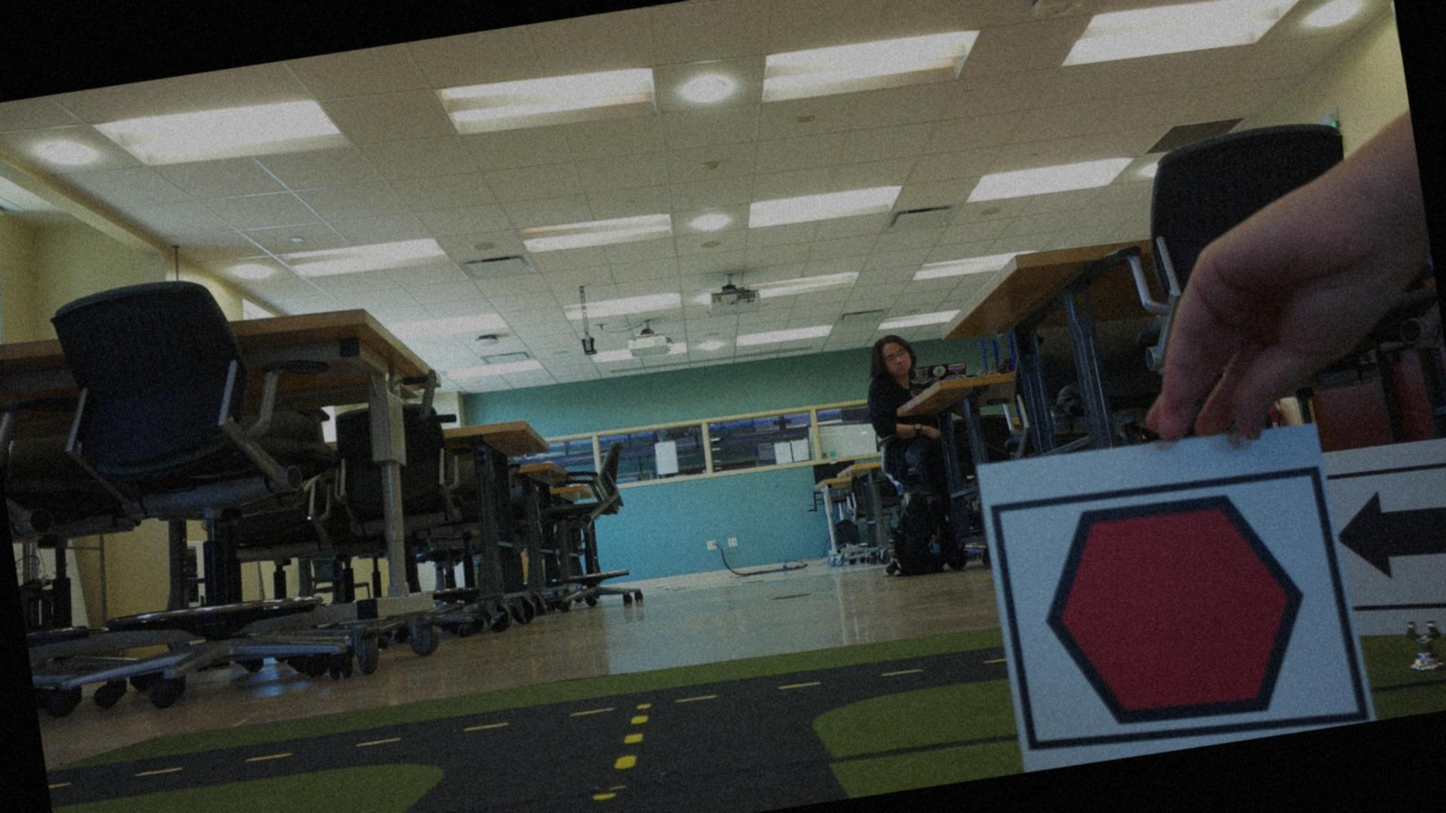stop: (1010, 467, 1334, 757)
turnright: (1332, 467, 1445, 608)
yellowline: (557, 713, 661, 812)
